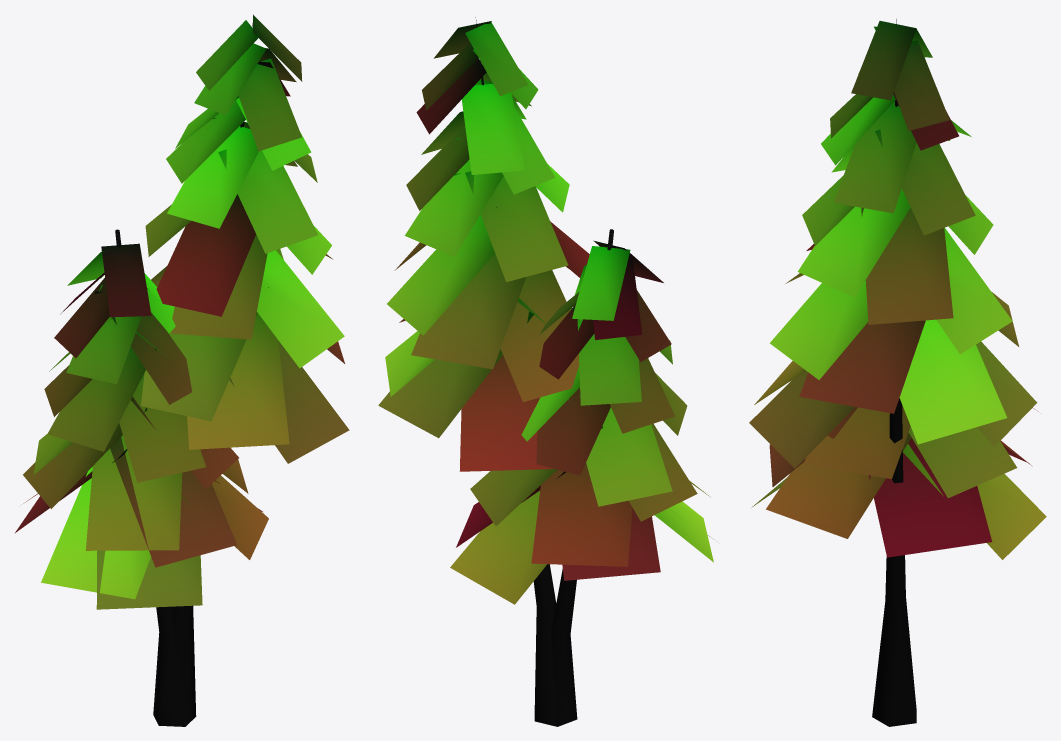
The model's file is SuperPine_1_10.fbx.
3 renders of one model, left to right at view 1: azimuth 30°, elevation 25°; view 2: azimuth 150°, elevation 25°; view 3: azimuth 270°, elevation 25°, orthographic. The views are drawn at different scales.
Visible parts, largest first — view 1: SuperPine_1_10; view 2: SuperPine_1_10; view 3: SuperPine_1_10.
Boxes of the visible parts, x1,y1,x2,y2 form: SuperPine_1_10: (15, 14, 349, 726); SuperPine_1_10: (378, 17, 714, 726); SuperPine_1_10: (749, 19, 1046, 726).
Size of the model in its own units: 283 by 604 by 218.
